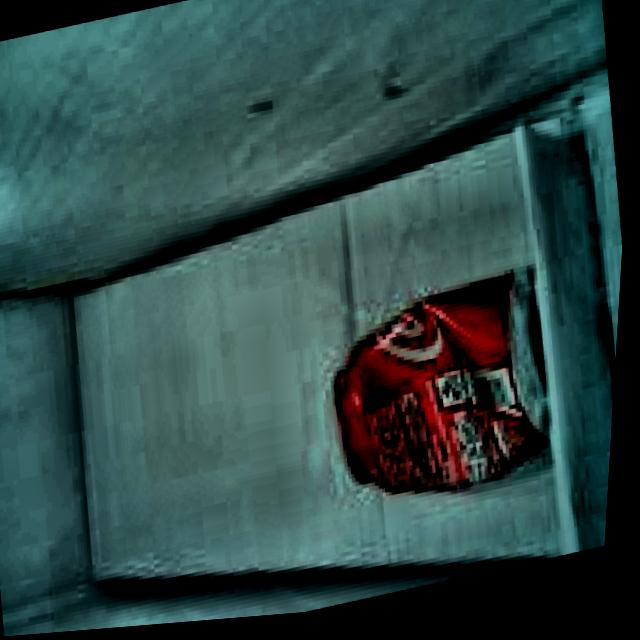Cans: (299, 250, 578, 537)
